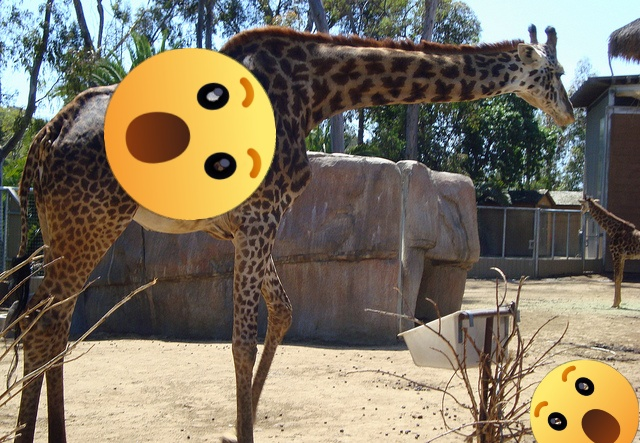wow: (104, 48, 276, 220), (530, 360, 639, 443)
